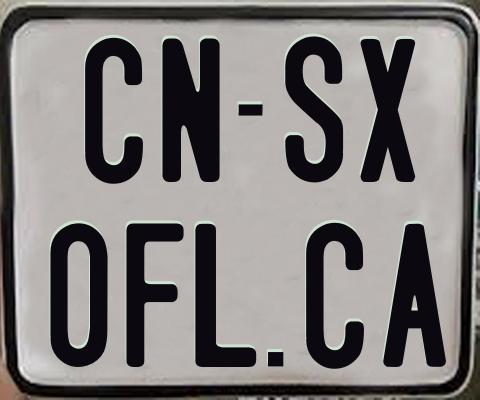0: (50, 221, 109, 369)
A: (380, 221, 446, 367)
C: (82, 35, 146, 183), (304, 223, 365, 371)
F: (125, 221, 185, 367)
L: (194, 223, 256, 372)
N: (162, 38, 226, 184)
S: (283, 33, 345, 184)
X: (360, 38, 415, 183)
